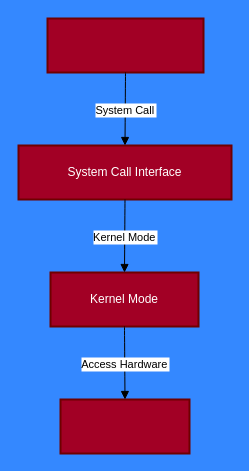
Some shapes in this 249 by 471 pixel diagram are drawn without their labels. Here are the shapes that lost their labels. From the top down, the centre of each, then its label:
At point 125,45: "User Program".
At point 124,426: "Hardware".
